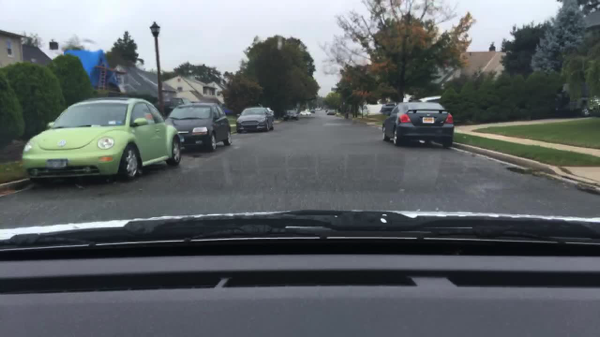car: (20, 97, 182, 186), (381, 102, 454, 149), (165, 103, 232, 153), (235, 107, 276, 134), (570, 98, 598, 115), (380, 103, 395, 117), (282, 110, 299, 121), (267, 107, 275, 122), (300, 110, 310, 116), (327, 109, 336, 114), (310, 109, 316, 113)
